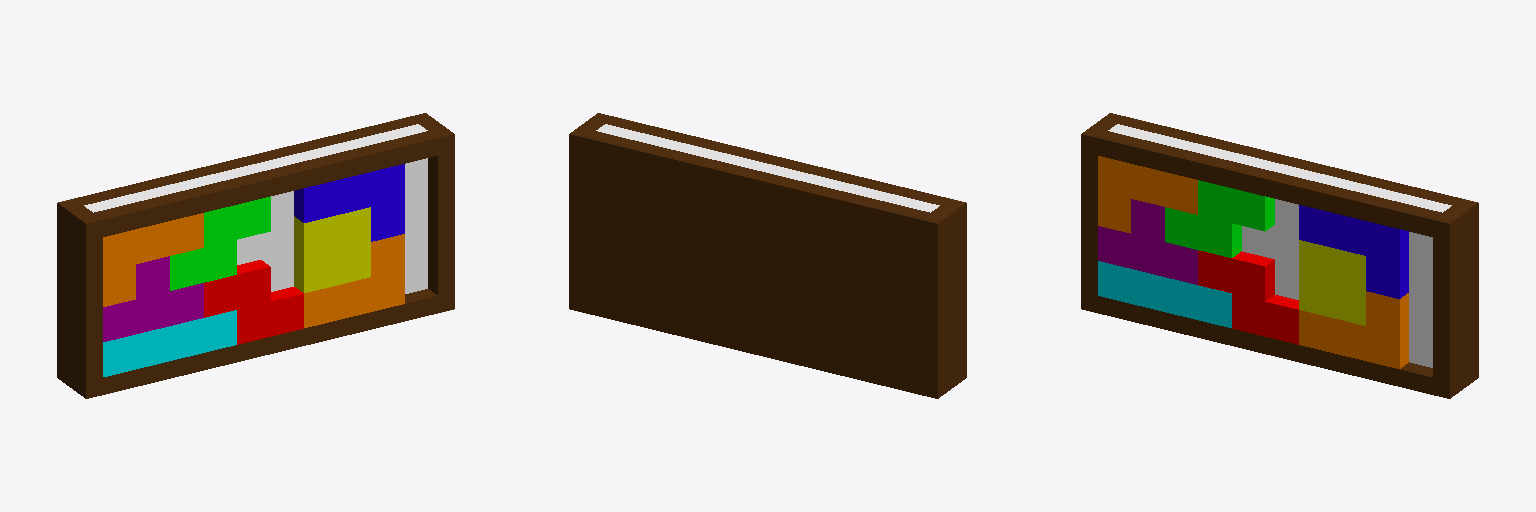
The picture shows the model from 3 angles: view 1: azimuth 30°, elevation 25°; view 2: azimuth 150°, elevation 25°; view 3: azimuth 330°, elevation 25°; orthographic projection.
Visible parts, largest first — view 1: object 1; view 2: object 1; view 3: object 1.
Part boxes in pixels (left/top/right/bottom): object 1: left=57, top=113, right=454, bottom=398; object 1: left=569, top=113, right=966, bottom=398; object 1: left=1081, top=113, right=1478, bottom=398.
Bounding box in the file's own units: 2.2 × 1 × 0.3.
1 materials, 1 textured.